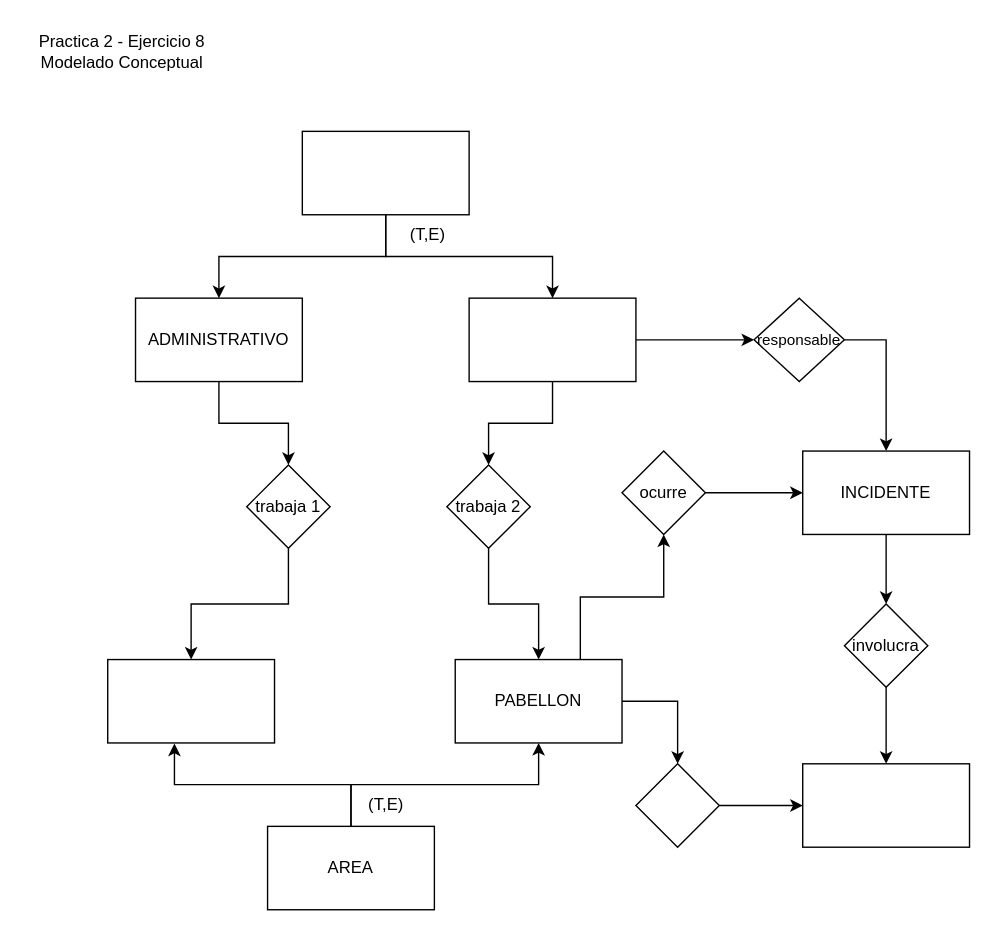
Image size: 994x934. Some labels were removed from this diagram. The shapes that lost their labels are listed below. From the top down, each one's centre as x and y in pixels, then its label:
At point (385, 172): "EMPLEADO".
At point (552, 339): "PENITENCIARIO".
At point (190, 700): "ADMINISTRATIVA".
At point (677, 804): "ALOJA".
At point (885, 804): "INTERNO".
